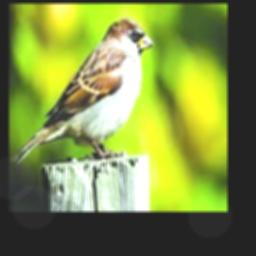Sparrow: (11, 18, 154, 164)
